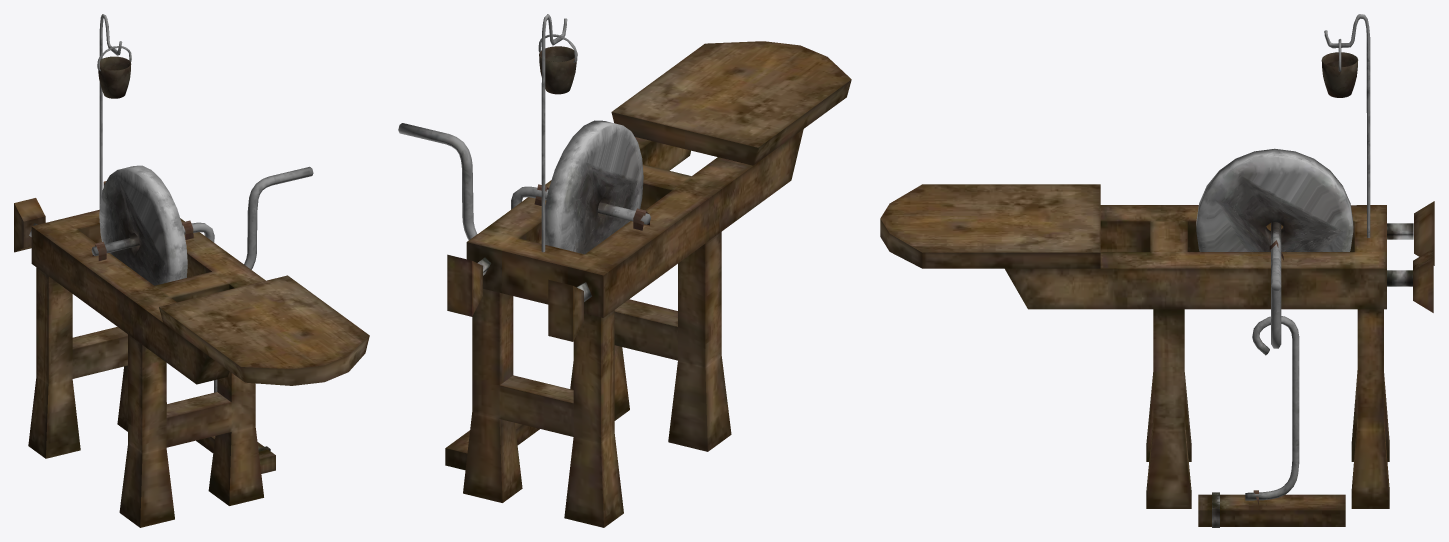
The model's file is grind_stone.glb.
The picture shows the model from 3 angles, left to right: view 1: azimuth 30°, elevation 25°; view 2: azimuth 150°, elevation 25°; view 3: azimuth 270°, elevation 25°; orthographic projection. The views are drawn at different scales.
Parts seen in each view (by area): view 1: Cube.018_Base1_0, Cube.018_lambert2_0; view 2: Cube.018_Base1_0, Cube.018_lambert2_0; view 3: Cube.018_Base1_0, Cube.018_lambert2_0.
Part boxes in pixels (x1,y1,x2,y2): Cube.018_Base1_0: (14, 181, 369, 527); Cube.018_lambert2_0: (91, 14, 313, 392); Cube.018_Base1_0: (445, 41, 851, 527); Cube.018_lambert2_0: (398, 14, 650, 254); Cube.018_Base1_0: (880, 184, 1434, 527); Cube.018_lambert2_0: (1196, 14, 1370, 500).
Size of the model in its own units: 89.17 by 156 by 169.
2 materials, 2 textured.
